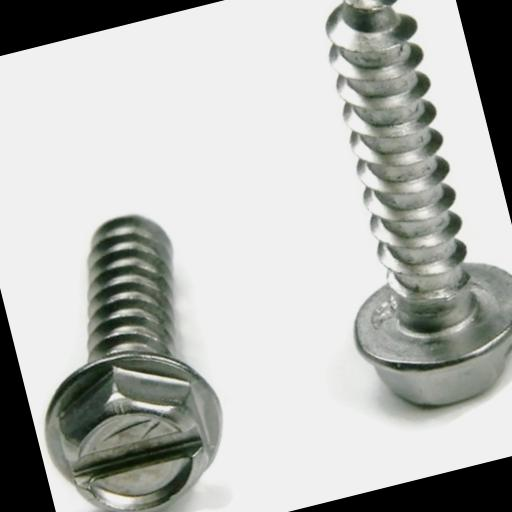Slotted: (40, 331, 234, 512)
